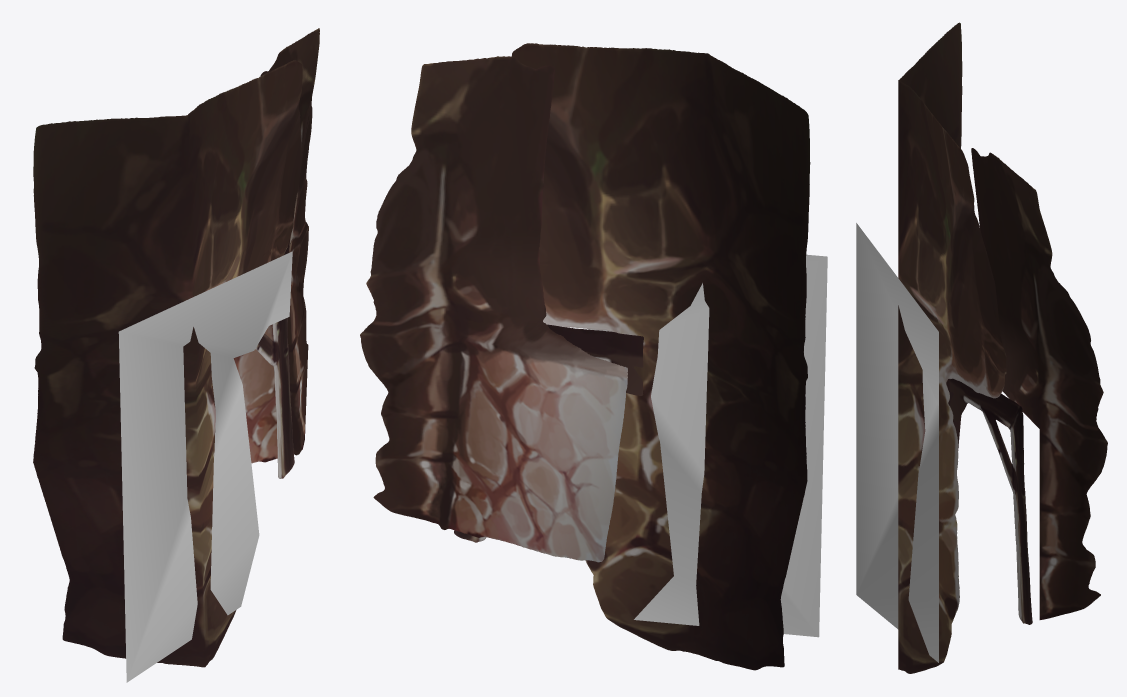
Rendered from Mine Exit.FBX.
3 renders of one model, left to right at view 1: azimuth 30°, elevation 25°; view 2: azimuth 150°, elevation 25°; view 3: azimuth 270°, elevation 25°, orthographic. The views are drawn at different scales.
Parts seen in each view (by area): view 1: Mine Exit, Mine Exit Mask; view 2: Mine Exit, Mine Exit Mask; view 3: Mine Exit, Mine Exit Mask.
Part boxes in pixels (box(x1,y1,x2,y2)): Mine Exit: box(33, 28, 319, 667); Mine Exit Mask: box(118, 251, 292, 682); Mine Exit: box(360, 43, 810, 670); Mine Exit Mask: box(588, 254, 827, 637); Mine Exit: box(898, 22, 1107, 673); Mine Exit Mask: box(856, 223, 938, 662).
Size of the model in its own units: 848 by 495 by 1348.
